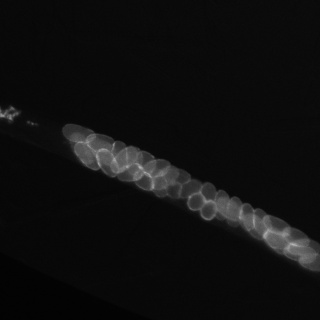embryo: (110, 146, 141, 174), (68, 131, 93, 165), (284, 243, 317, 268), (262, 224, 287, 255), (73, 141, 99, 170), (153, 164, 179, 190), (243, 211, 264, 240), (62, 124, 94, 143), (96, 148, 116, 177), (223, 196, 243, 225), (138, 150, 157, 176), (144, 159, 170, 178), (86, 133, 113, 151), (263, 214, 290, 232), (119, 163, 143, 182), (284, 227, 309, 244), (214, 190, 229, 218), (252, 208, 266, 238), (239, 203, 253, 232), (181, 179, 201, 199), (152, 174, 167, 197), (134, 172, 151, 190), (187, 193, 203, 210), (200, 202, 215, 220), (201, 182, 216, 200), (174, 167, 190, 183), (165, 183, 181, 198), (111, 141, 126, 156)
